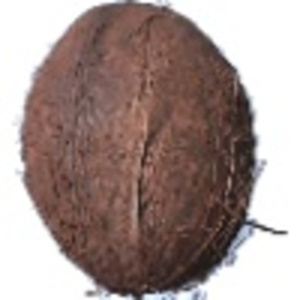coco: (17, 1, 285, 300)
